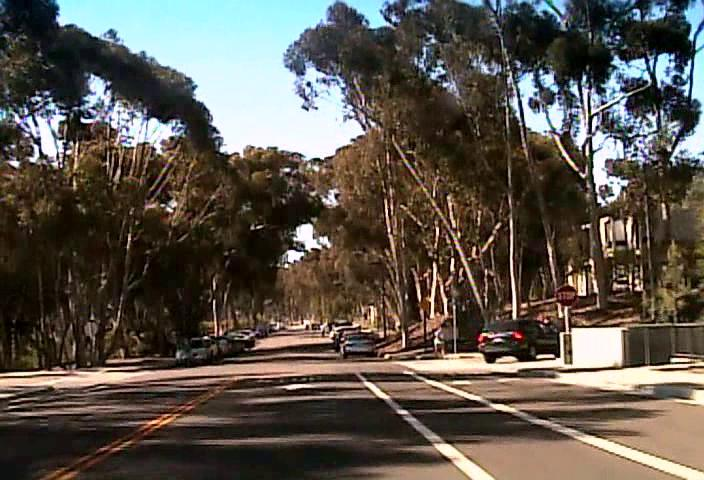stop: (554, 284, 577, 307)
